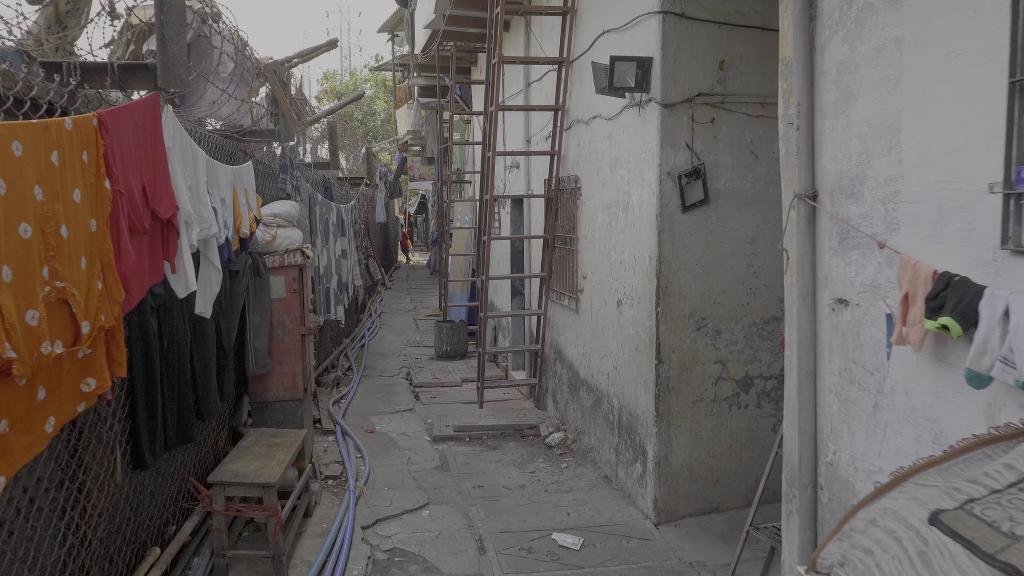dustbin: (432, 316, 475, 362)
garbage: (550, 527, 588, 554)
